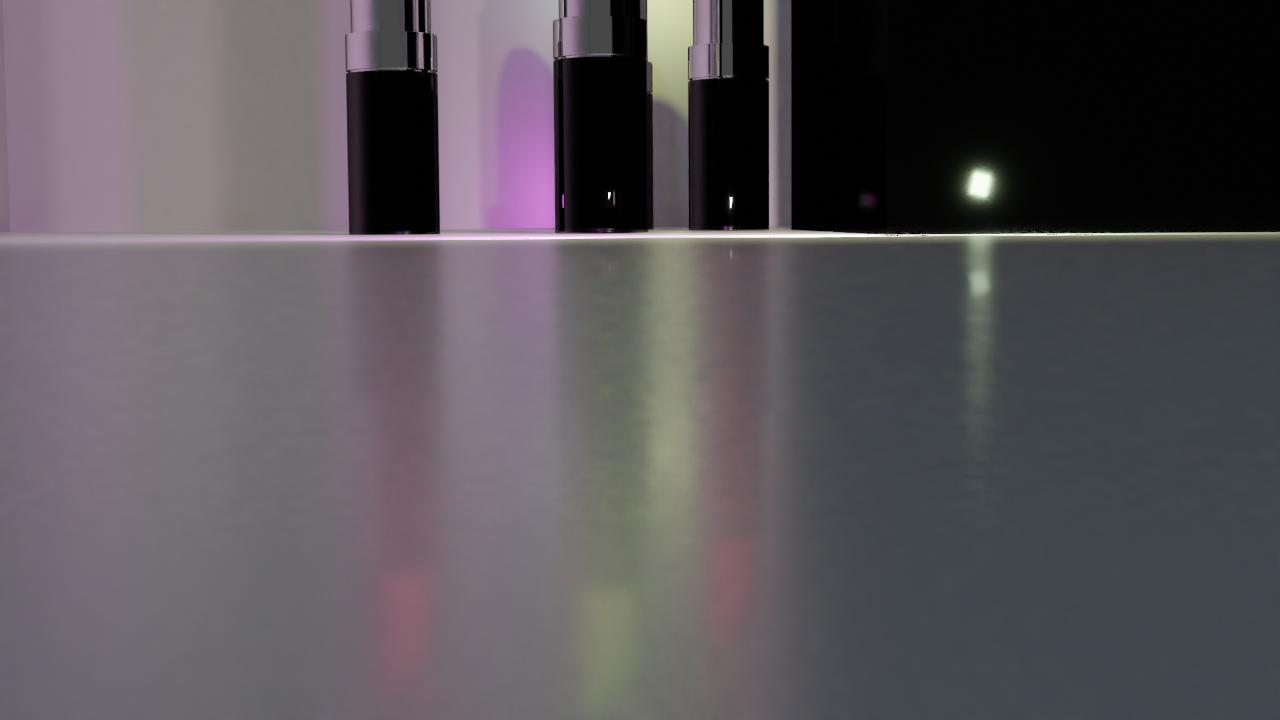CLASSIFIER_NAME: (343, 0, 442, 242), (552, 0, 649, 233), (687, 0, 771, 230)
